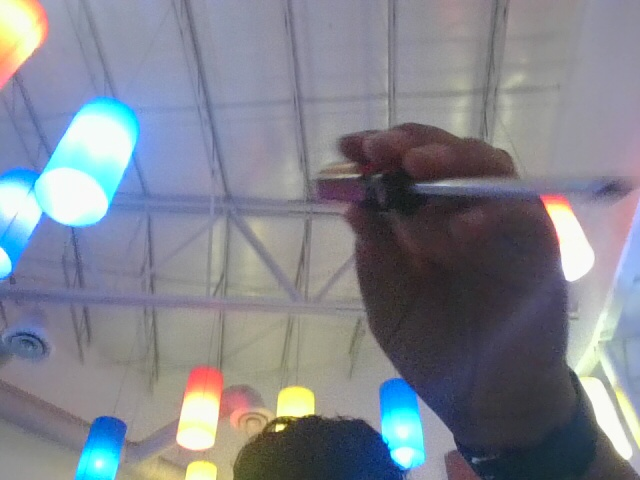destornillador: (305, 164, 636, 211)
